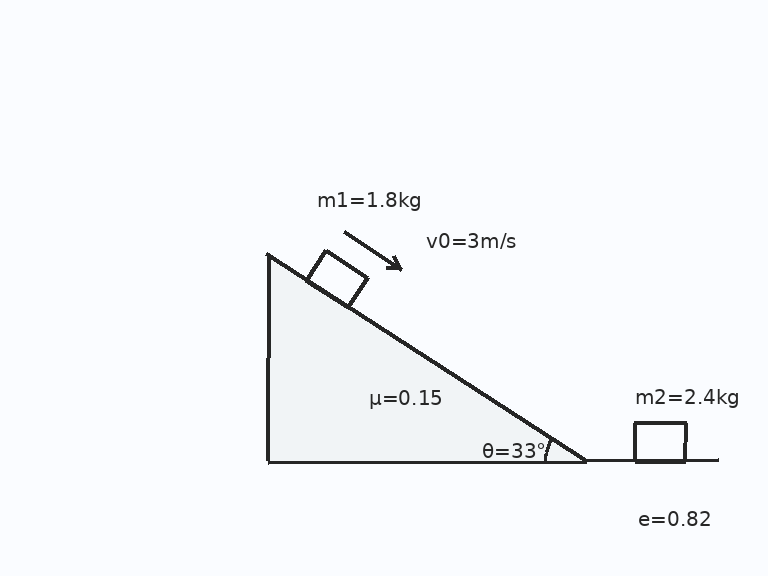block: (304, 248, 369, 309), (632, 422, 688, 463)
ramp: (265, 253, 587, 463)
